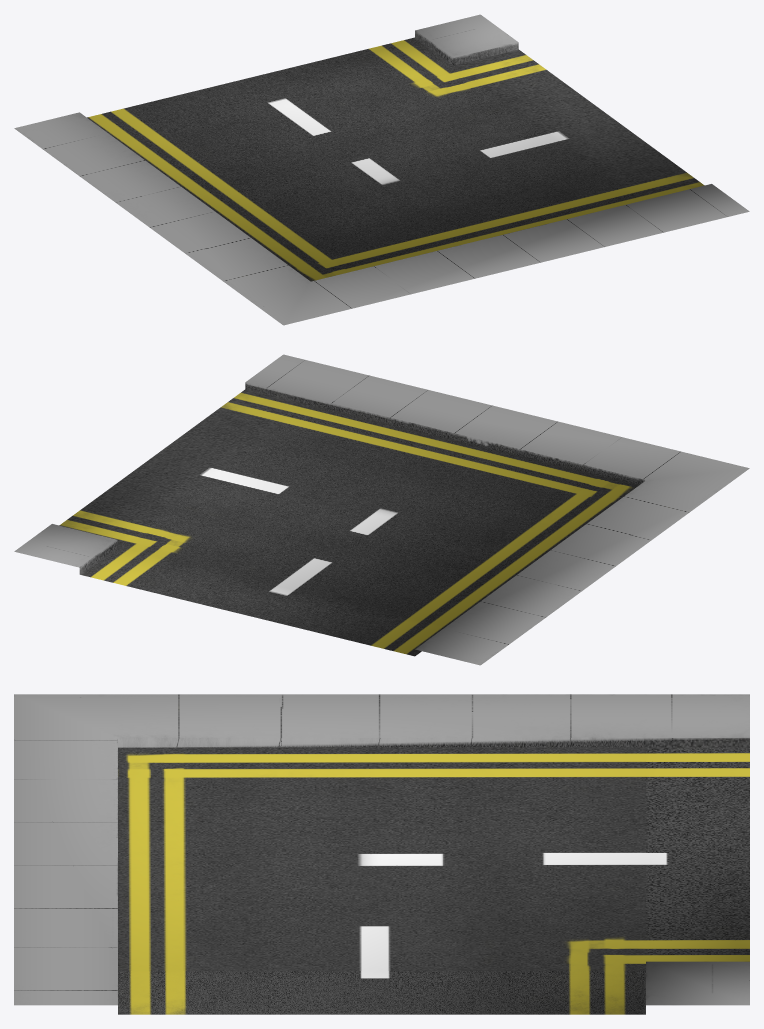
The model's file is Corner.obj.
3 views of the same model, one above another, from view 1: azimuth 30°, elevation 25°; view 2: azimuth 150°, elevation 25°; view 3: azimuth 270°, elevation 25° (orthographic). The views are drawn at different scales.
Visible parts, largest first — view 1: Corner:pPlane4; view 2: Corner:pPlane4; view 3: Corner:pPlane4.
Part boxes in pixels (left/top/right/bottom): Corner:pPlane4: left=14, top=14, right=749, bottom=325; Corner:pPlane4: left=14, top=354, right=749, bottom=665; Corner:pPlane4: left=14, top=694, right=749, bottom=1014.
Bounding box in the file's own units: 50 × 0.7134 × 50.
1 material, 1 textured.
